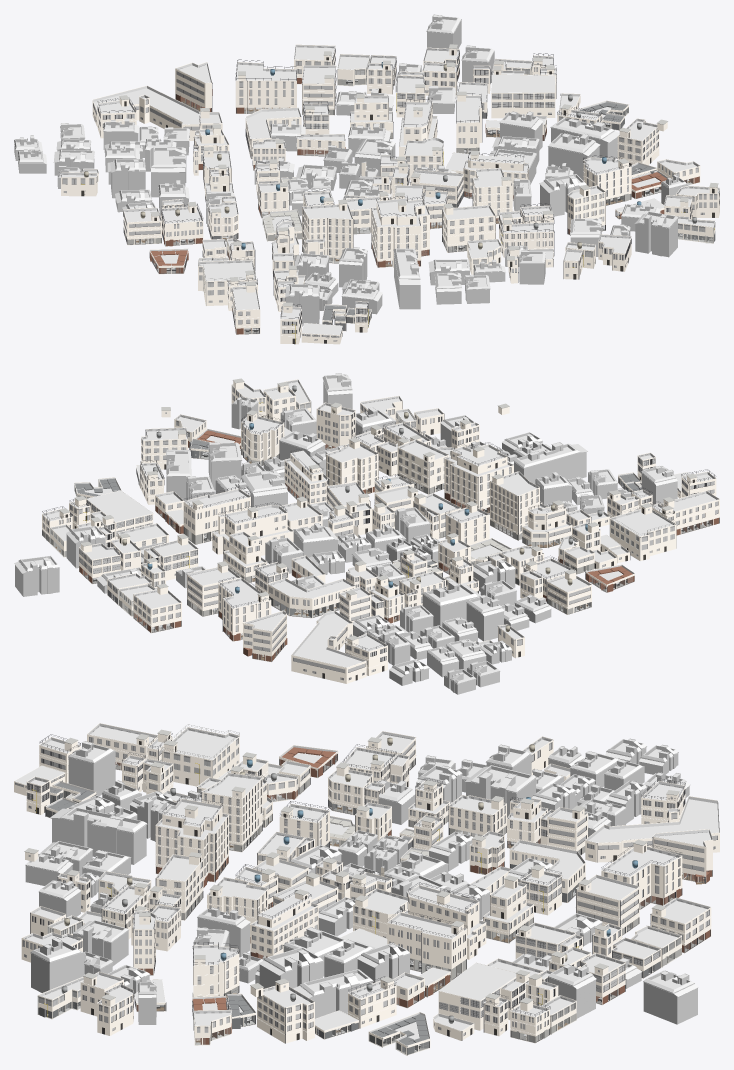
3 views of the same model, one above another, from view 1: azimuth 30°, elevation 25°; view 2: azimuth 150°, elevation 25°; view 3: azimuth 270°, elevation 25° (orthographic). The views are drawn at different scales.
Visible parts, largest first — view 1: 서울특별시 성동구 성수동1가 241, 서울특별시 성동구 성수동1가 274-4, 서울특별시 성동구 성수동1가 275-3.001, 서울특별시 성동구 성수동1가 237-2.001, 서울특별시 성동구 성수동1가 35-3.002, 서울특별시 성동구 성수동1가 242-2, 서울특별시 성동구 성수동1가 218-2, 서울특별시 성동구 성수동1가 303, 서울특별시 성동구 성수동1가 318, 서울특별시 성동구 성수동1가 34-8, 서울특별시 성동구 성수동1가 40-1, 서울특별시 성동구 성수동1가 301 (+77 smaller); view 2: 서울특별시 성동구 성수동1가 35-3.002, 서울특별시 성동구 성수동1가 241, 서울특별시 성동구 성수동1가 218-2, 서울특별시 성동구 성수동1가 237-2.001, 서울특별시 성동구 성수동1가 263, 서울특별시 성동구 성수동1가 272.001, 서울특별시 성동구 성수동1가 262-1, 서울특별시 성동구 성수동1가 274-4, 서울특별시 성동구 성수동1가 236-1, 서울특별시 성동구 성수동1가 244-1, 서울특별시 성동구 성수동1가 242-2, 서울특별시 성동구 성수동1가 34-8 (+94 smaller); view 3: 서울특별시 성동구 성수동1가 241, 서울특별시 성동구 성수동1가 262-1, 서울특별시 성동구 성수동1가 236-1, 서울특별시 성동구 성수동1가 35-3.002, 서울특별시 성동구 성수동1가 218-2, 서울특별시 성동구 성수동1가 274-4, 서울특별시 성동구 성수동1가 237-2.001, 서울특별시 성동구 성수동1가 244-3, 서울특별시 성동구 성수동1가 275-3.001, 서울특별시 성동구 성수동1가 296, 서울특별시 성동구 성수동1가 274-5, 서울특별시 성동구 성수동1가 263 (+107 smaller).
Part boxes in pixels (x1,y1,x2,y2): 서울특별시 성동구 성수동1가 241: (371,196,429,267); 서울특별시 성동구 성수동1가 274-4: (235,59,296,113); 서울특별시 성동구 성수동1가 275-3.001: (491,74,555,118); 서울특별시 성동구 성수동1가 237-2.001: (302,204,353,263); 서울특별시 성동구 성수동1가 35-3.002: (92,85,199,140); 서울특별시 성동구 성수동1가 242-2: (442,205,495,252); 서울특별시 성동구 성수동1가 218-2: (198,257,256,305); 서울특별시 성동구 성수동1가 303: (583,155,631,205); 서울특별시 성동구 성수동1가 318: (634,211,678,257); 서울특별시 성동구 성수동1가 34-8: (175,61,212,111); 서울특별시 성동구 성수동1가 40-1: (161,203,203,246); 서울특별시 성동구 성수동1가 301: (548,133,600,180); 서울특별시 성동구 성수동1가 35-3.002: (291,610,366,683); 서울특별시 성동구 성수동1가 241: (444,442,513,513); 서울특별시 성동구 성수동1가 218-2: (609,507,676,560); 서울특별시 성동구 성수동1가 237-2.001: (490,471,539,540); 서울특별시 성동구 성수동1가 263: (212,502,293,555); 서울특별시 성동구 성수동1가 272.001: (268,578,355,618); 서울특별시 성동구 성수동1가 262-1: (183,486,251,544); 서울특별시 성동구 성수동1가 274-4: (218,575,271,641); 서울특별시 성동구 성수동1가 236-1: (513,442,587,483); 서울특별시 성동구 성수동1가 244-1: (326,443,378,494); 서울특별시 성동구 성수동1가 242-2: (397,439,448,494); 서울특별시 성동구 성수동1가 34-8: (243,611,287,662); 서울특별시 성동구 성수동1가 241: (155,796,228,887); 서울특별시 성동구 성수동1가 262-1: (387,909,467,980); 서울특별시 성동구 성수동1가 236-1: (50,807,147,864); 서울특별시 성동구 성수동1가 35-3.002: (585,796,719,862); 서울특별시 성동구 성수동1가 218-2: (161,724,239,786); 서울특별시 성동구 성수동1가 274-4: (601,843,682,909); 서울특별시 성동구 성수동1가 237-2.001: (201,772,262,852); 서울특별시 성동구 성수동1가 244-3: (250,892,318,960); 서울특별시 성동구 성수동1가 275-3.001: (438,962,516,1030); 서울특별시 성동구 성수동1가 296: (257,985,314,1043); 서울특별시 성동구 성수동1가 274-5: (575,874,639,935); 서울특별시 성동구 성수동1가 263: (404,882,486,959).
Bounding box in the file's own units: 219 × 21.52 × 216.
